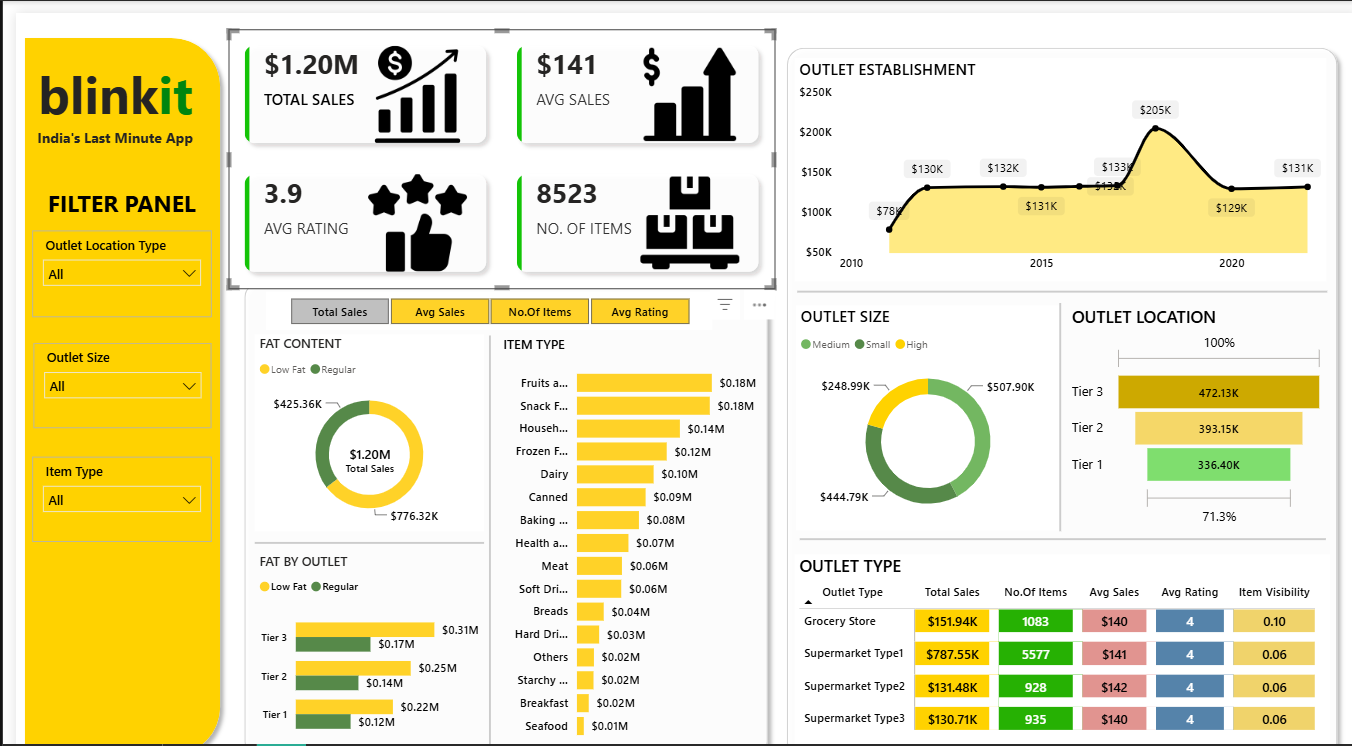

Layout of this report page (visuals, bound fields, positions):
{"tool":"powerbi","page":{"name":"Page 1","canvas":[1400,800],"ordinal":0},"visuals":[{"type":"shape","box":[0,17.5,221.9,766.6],"z":0},{"type":"textbox","box":[10.8,43,187,87.4],"z":1000},{"type":"textbox","box":[5.4,114.3,196.4,32.3],"z":2000},{"type":"cardVisual","fields":{"Data":["BlinkIT Grocery Data.Total Sales","BlinkIT Grocery Data.Avg Sales","BlinkIT Grocery Data.Avg Rating","BlinkIT Grocery Data.No.Of Items"]},"box":[221.9,17.5,570.3,270.3],"z":3000},{"type":"shape","box":[230,273,563.6,511.1],"z":4000},{"type":"donutChart","title":"FAT CONTENT","fields":{"Category":["BlinkIT Grocery Data.Item Fat Content"],"Y":["BlinkIT Grocery Data.Total Sales"]},"box":[248.8,334.9,239.4,205.8],"z":5000},{"type":"slicer","fields":{"Values":["Metrics.Metrics"]},"box":[260.9,290.5,465.4,40.3],"z":6000},{"type":"cardVisual","fields":{"Data":["BlinkIT Grocery Data.Total Sales"]},"box":[321.5,433.1,94.1,67.2],"z":7000},{"type":"clusteredBarChart","title":"FAT BY OUTLET","fields":{"Category":["BlinkIT Grocery Data.Outlet Location Type"],"Series":["BlinkIT Grocery Data.Item Fat Content"],"Y":["BlinkIT Grocery Data.Total Sales"]},"box":[248.8,562.2,239.4,207.1],"z":8000},{"type":"shape","box":[248.8,534,239.4,36.3],"z":9000},{"type":"shape","box":[488.2,336.2,13.4,430.4],"z":10000},{"type":"barChart","title":"ITEM TYPE","fields":{"Category":["BlinkIT Grocery Data.Item Type"],"Y":["BlinkIT Grocery Data.Total Sales"]},"box":[503,336.2,274.4,431.7],"z":11000},{"type":"shape","box":[794.9,26.9,591.8,759.9],"z":12000},{"type":"donutChart","title":"OUTLET SIZE","fields":{"Category":["BlinkIT Grocery Data.Outlet Size"],"Y":["BlinkIT Grocery Data.Total Sales"]},"box":[813.7,305.3,275.7,234],"z":13000},{"type":"funnel","title":"OUTLET LOCATION","fields":{"Category":["BlinkIT Grocery Data.Outlet Location Type"],"Y":["Sum(BlinkIT Grocery Data.Sales)"]},"box":[1096.2,305.3,273,234],"z":14000},{"type":"pivotTable","title":"OUTLET TYPE","fields":{"Rows":["BlinkIT Grocery Data.Outlet Type"],"Values":["BlinkIT Grocery Data.Total Sales","BlinkIT Grocery Data.No.Of Items","BlinkIT Grocery Data.Avg Sales","BlinkIT Grocery Data.Avg Rating","Avg(BlinkIT Grocery Data.Item Visibility)"]},"box":[812.4,564.9,558.2,200.4],"z":15000},{"type":"lineChart","title":"OUTLET ESTABLISHMENT","fields":{"Category":["BlinkIT Grocery Data.Outlet Establishment Year"],"Y":["BlinkIT Grocery Data.Total Sales"]},"box":[812.4,47.1,554.1,232.7],"z":16000},{"type":"shape","box":[1073.3,302.6,32.3,238.1],"z":17000},{"type":"shape","box":[817.8,531.3,548.8,36.3],"z":18000},{"type":"shape","box":[815.1,273,552.8,36.3],"z":19000},{"type":"slicer","fields":{"Values":["BlinkIT Grocery Data.Outlet Location Type"]},"box":[17.5,227.3,187,90.1],"z":20000},{"type":"slicer","fields":{"Values":["BlinkIT Grocery Data.Outlet Size"]},"box":[18.8,344.3,185.6,88.8],"z":21000},{"type":"slicer","fields":{"Values":["BlinkIT Grocery Data.Item Type"]},"box":[17.5,462.7,187,88.8],"z":22000},{"type":"textbox","box":[17.5,177.5,187,44.4],"z":23000}]}

Visuals, with their boxes on the page's 1400x800 design canvas (x1, y1, x2, y2). These are canvas units, not pixel positions in the 1352x746 screenshot, which may show the page scaled, cropped or inside an application window:
shape: 0,18,222,784
textbox: 11,43,198,130
textbox: 5,114,202,147
cardVisual - BlinkIT Grocery Data.Total Sales x BlinkIT Grocery Data.Avg Sales: 222,18,792,288
shape: 230,273,794,784
"FAT CONTENT" donutChart: 249,335,488,541
slicer - Metrics.Metrics: 261,290,726,331
cardVisual - BlinkIT Grocery Data.Total Sales: 322,433,416,500
"FAT BY OUTLET" clusteredBarChart: 249,562,488,769
shape: 249,534,488,570
shape: 488,336,502,767
"ITEM TYPE" barChart: 503,336,777,768
shape: 795,27,1387,787
"OUTLET SIZE" donutChart: 814,305,1089,539
"OUTLET LOCATION" funnel: 1096,305,1369,539
"OUTLET TYPE" pivotTable: 812,565,1371,765
"OUTLET ESTABLISHMENT" lineChart: 812,47,1366,280
shape: 1073,303,1106,541
shape: 818,531,1367,568
shape: 815,273,1368,309
slicer - BlinkIT Grocery Data.Outlet Location Type: 18,227,204,317
slicer - BlinkIT Grocery Data.Outlet Size: 19,344,204,433
slicer - BlinkIT Grocery Data.Item Type: 18,463,204,552
textbox: 18,178,204,222
